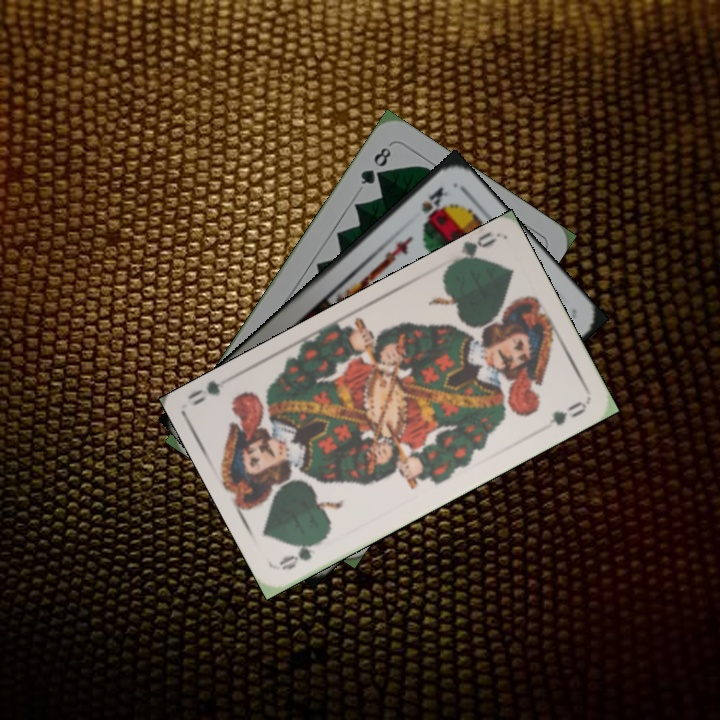G8: (356, 143, 394, 187)
GO: (275, 533, 329, 573), (445, 229, 498, 269)
SK: (417, 182, 451, 222)
